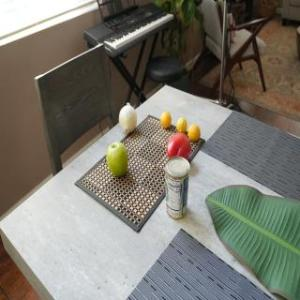bell_pepper: (166, 132, 190, 164)
onion: (119, 104, 137, 134)
